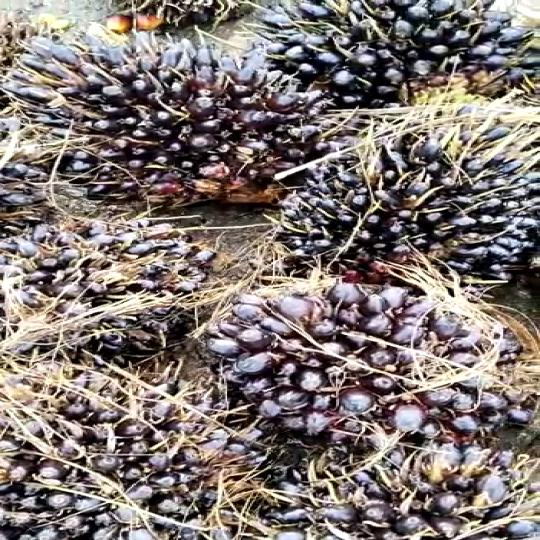mentah: (197, 267, 540, 464), (7, 16, 328, 216), (268, 80, 540, 295), (0, 353, 253, 539)
